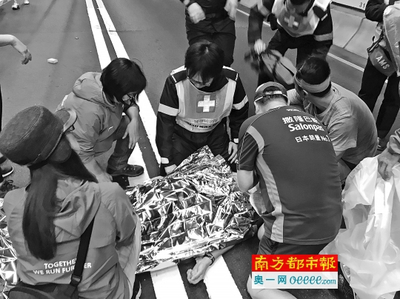fall: (137, 143, 258, 284)
